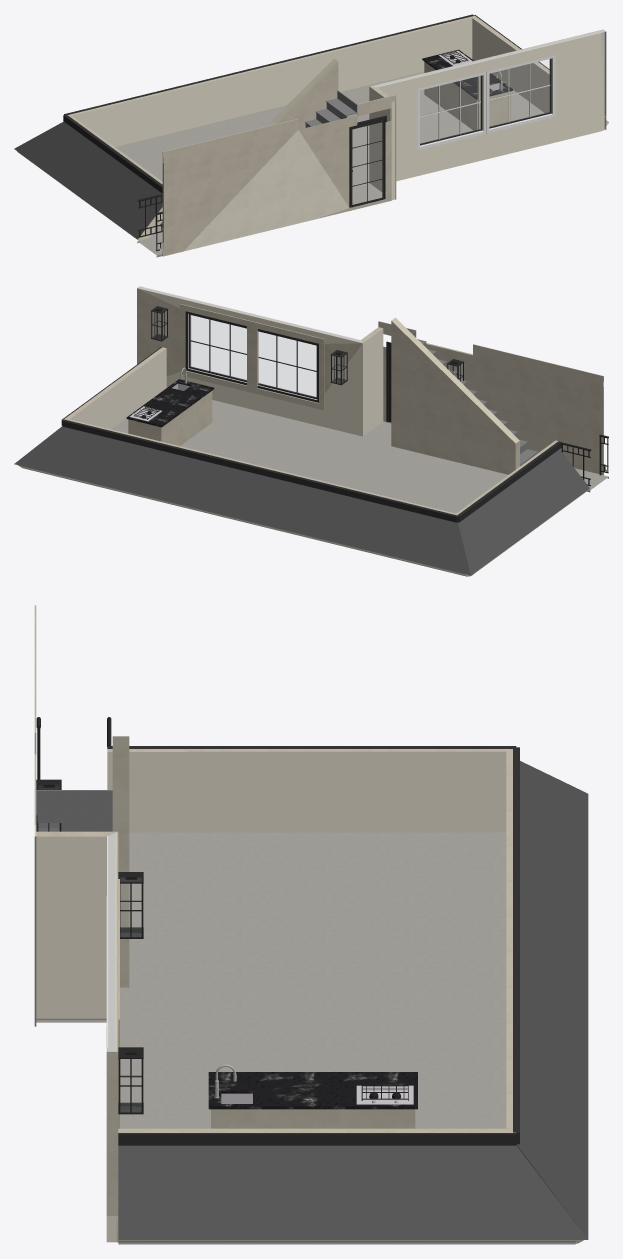
File: rear-deck-1ba063563c38.glb
The picture shows the model from 3 angles, top to bottom: view 1: azimuth 30°, elevation 25°; view 2: azimuth 150°, elevation 25°; view 3: azimuth 270°, elevation 25°; orthographic projection. The views are drawn at different scales.
Visible parts, largest first — view 1: rear-deck-bd62734a7bc60eb7, rear-deck-32021a86c784f0e0, rear-deck-245f595ae2832e16, rear-deck-ded88bd99590d377, rear-deck-36ed5266b1bc40cd, rear-deck-85ede138eeba504d, rear-deck-cdd3b97a7e9637be, rear-deck-dd55bfb54febbe8b, rear-deck-b5f10ab9081c9955, rear-deck-7511cdbc362aca5e, rear-deck-6b027cd2e6bc0d64, rear-deck-09f90213aa0a4493 (+5 smaller); view 2: rear-deck-5febae1537653d02, rear-deck-ded88bd99590d377, rear-deck-bd62734a7bc60eb7, rear-deck-7511cdbc362aca5e, rear-deck-245f595ae2832e16, rear-deck-36ed5266b1bc40cd, rear-deck-cdd3b97a7e9637be, rear-deck-85ede138eeba504d, rear-deck-dd55bfb54febbe8b, rear-deck-d7a70b5818f54477, rear-deck-6b027cd2e6bc0d64, rear-deck-b5f10ab9081c9955 (+7 smaller); view 3: rear-deck-ded88bd99590d377, rear-deck-0e7e1de83ff8e24c, rear-deck-18b8f93424e26a44, rear-deck-5febae1537653d02, rear-deck-6b027cd2e6bc0d64, rear-deck-385241de3d752b47, rear-deck-5e5272df00660e4c, rear-deck-b5f10ab9081c9955, rear-deck-245f595ae2832e16, rear-deck-7511cdbc362aca5e, rear-deck-d7a70b5818f54477, rear-deck-32021a86c784f0e0 (+8 smaller).
Part boxes in pixels (box(x1,y1,x2,y2)): rear-deck-bd62734a7bc60eb7: box(162, 95, 396, 256); rear-deck-32021a86c784f0e0: box(68, 16, 472, 146); rear-deck-245f595ae2832e16: box(369, 29, 604, 181); rear-deck-ded88bd99590d377: box(115, 71, 544, 253); rear-deck-36ed5266b1bc40cd: box(14, 121, 162, 238); rear-deck-85ede138eeba504d: box(417, 72, 486, 150); rear-deck-cdd3b97a7e9637be: box(487, 55, 555, 133); rear-deck-dd55bfb54febbe8b: box(472, 15, 549, 112); rear-deck-b5f10ab9081c9955: box(424, 61, 511, 130); rear-deck-7511cdbc362aca5e: box(266, 59, 338, 129); rear-deck-6b027cd2e6bc0d64: box(369, 86, 395, 200); rear-deck-09f90213aa0a4493: box(349, 115, 386, 207); rear-deck-5febae1537653d02: box(14, 426, 470, 575); rear-deck-ded88bd99590d377: box(111, 400, 602, 513); rear-deck-bd62734a7bc60eb7: box(378, 321, 603, 475); rear-deck-7511cdbc362aca5e: box(391, 317, 519, 474); rear-deck-245f595ae2832e16: box(137, 287, 363, 436); rear-deck-36ed5266b1bc40cd: box(458, 449, 589, 575); rear-deck-cdd3b97a7e9637be: box(185, 311, 246, 385); rear-deck-85ede138eeba504d: box(257, 329, 318, 402); rear-deck-dd55bfb54febbe8b: box(63, 347, 166, 429); rear-deck-d7a70b5818f54477: box(62, 419, 457, 522); rear-deck-6b027cd2e6bc0d64: box(361, 327, 383, 435); rear-deck-b5f10ab9081c9955: box(128, 391, 212, 445); rear-deck-ded88bd99590d377: box(36, 832, 506, 1128); rear-deck-0e7e1de83ff8e24c: box(118, 1145, 587, 1239); rear-deck-18b8f93424e26a44: box(107, 749, 511, 832); rear-deck-5febae1537653d02: box(516, 761, 588, 1239); rear-deck-6b027cd2e6bc0d64: box(36, 831, 117, 1018); rear-deck-385241de3d752b47: box(208, 1072, 417, 1109); rear-deck-5e5272df00660e4c: box(118, 1133, 516, 1145); rear-deck-b5f10ab9081c9955: box(211, 1109, 415, 1128); rear-deck-245f595ae2832e16: box(107, 832, 118, 1242); rear-deck-7511cdbc362aca5e: box(112, 736, 129, 987); rear-deck-d7a70b5818f54477: box(513, 747, 519, 1144); rear-deck-32021a86c784f0e0: box(506, 749, 512, 1131).
Bounding box in the file's own units: 12.61 × 3.37 × 6.62.
Materials: 24 (5 with a texture image).
